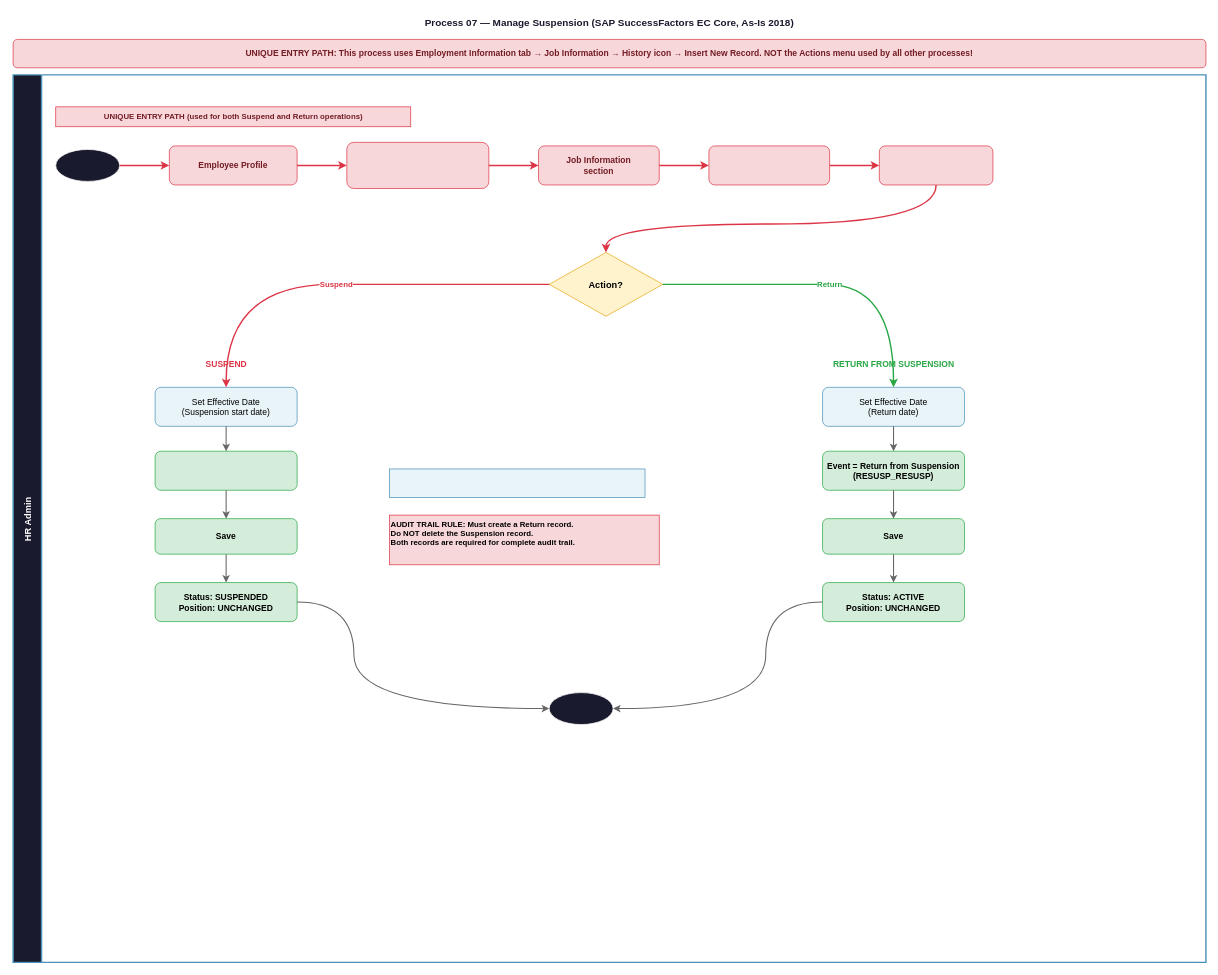
Image size: 1218x975. Some labels were removed from this diagram. The shapes that lost their labels are listed below. From the top down, each one's centre as x and y in pixels, then its label:
point (87, 165): Start
point (417, 165): Employment Information tab (NOT Actions menu!)
point (769, 165): Click History icon (clock/history)
point (936, 165): Insert New Record
point (225, 470): Event = Suspension (SUSP_SUSP)
point (517, 482): Rule: Position remains unchanged throughout suspension period
point (580, 708): Done
